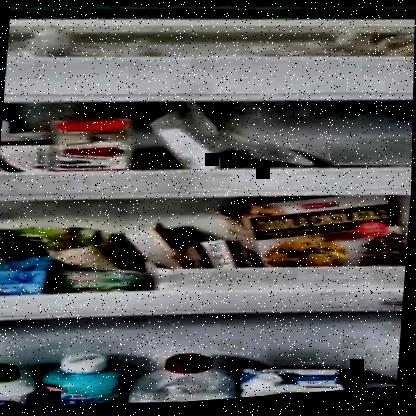heavy_cream: (0, 251, 59, 298)
milk: (242, 368, 343, 400), (0, 361, 40, 408)
